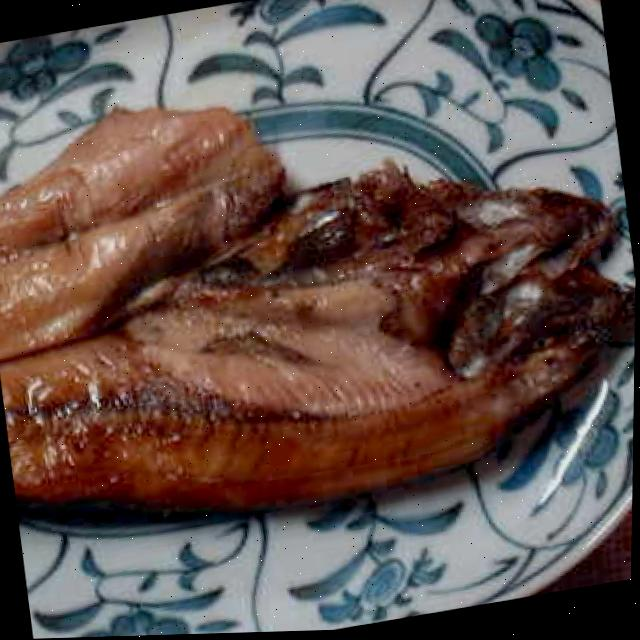熟制海鲜: (0, 30, 639, 594)
